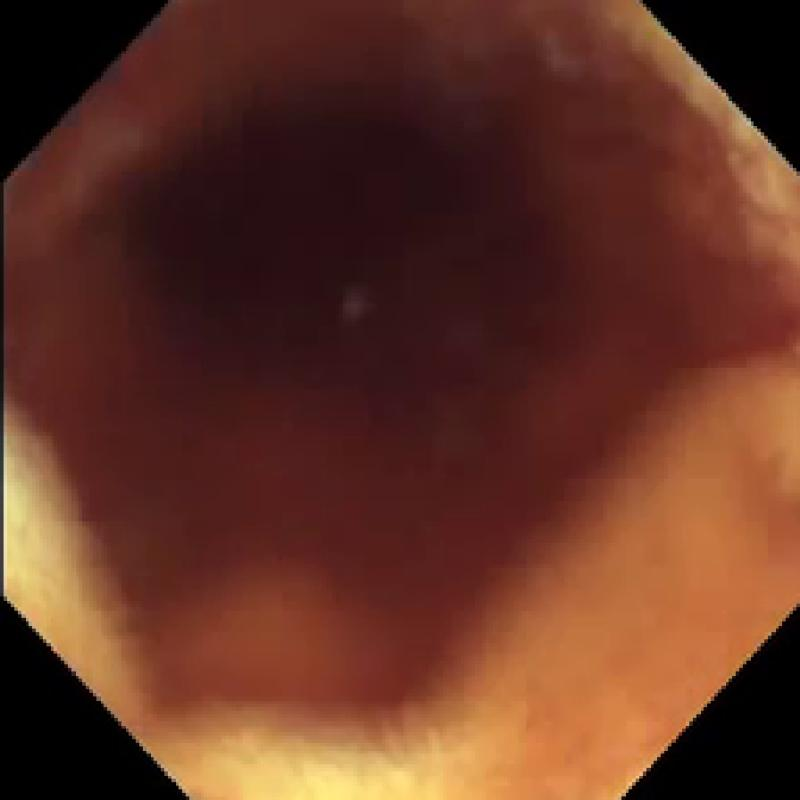bleeding: (7, 4, 797, 728)
